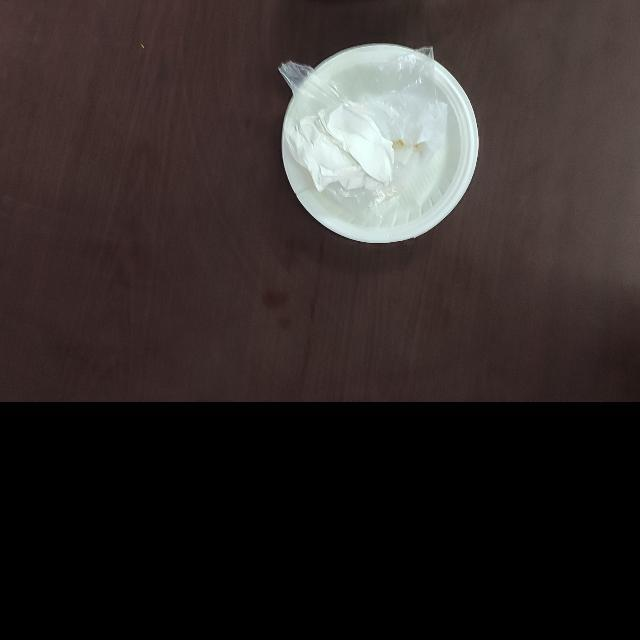kitchen paper: (282, 101, 405, 196)
